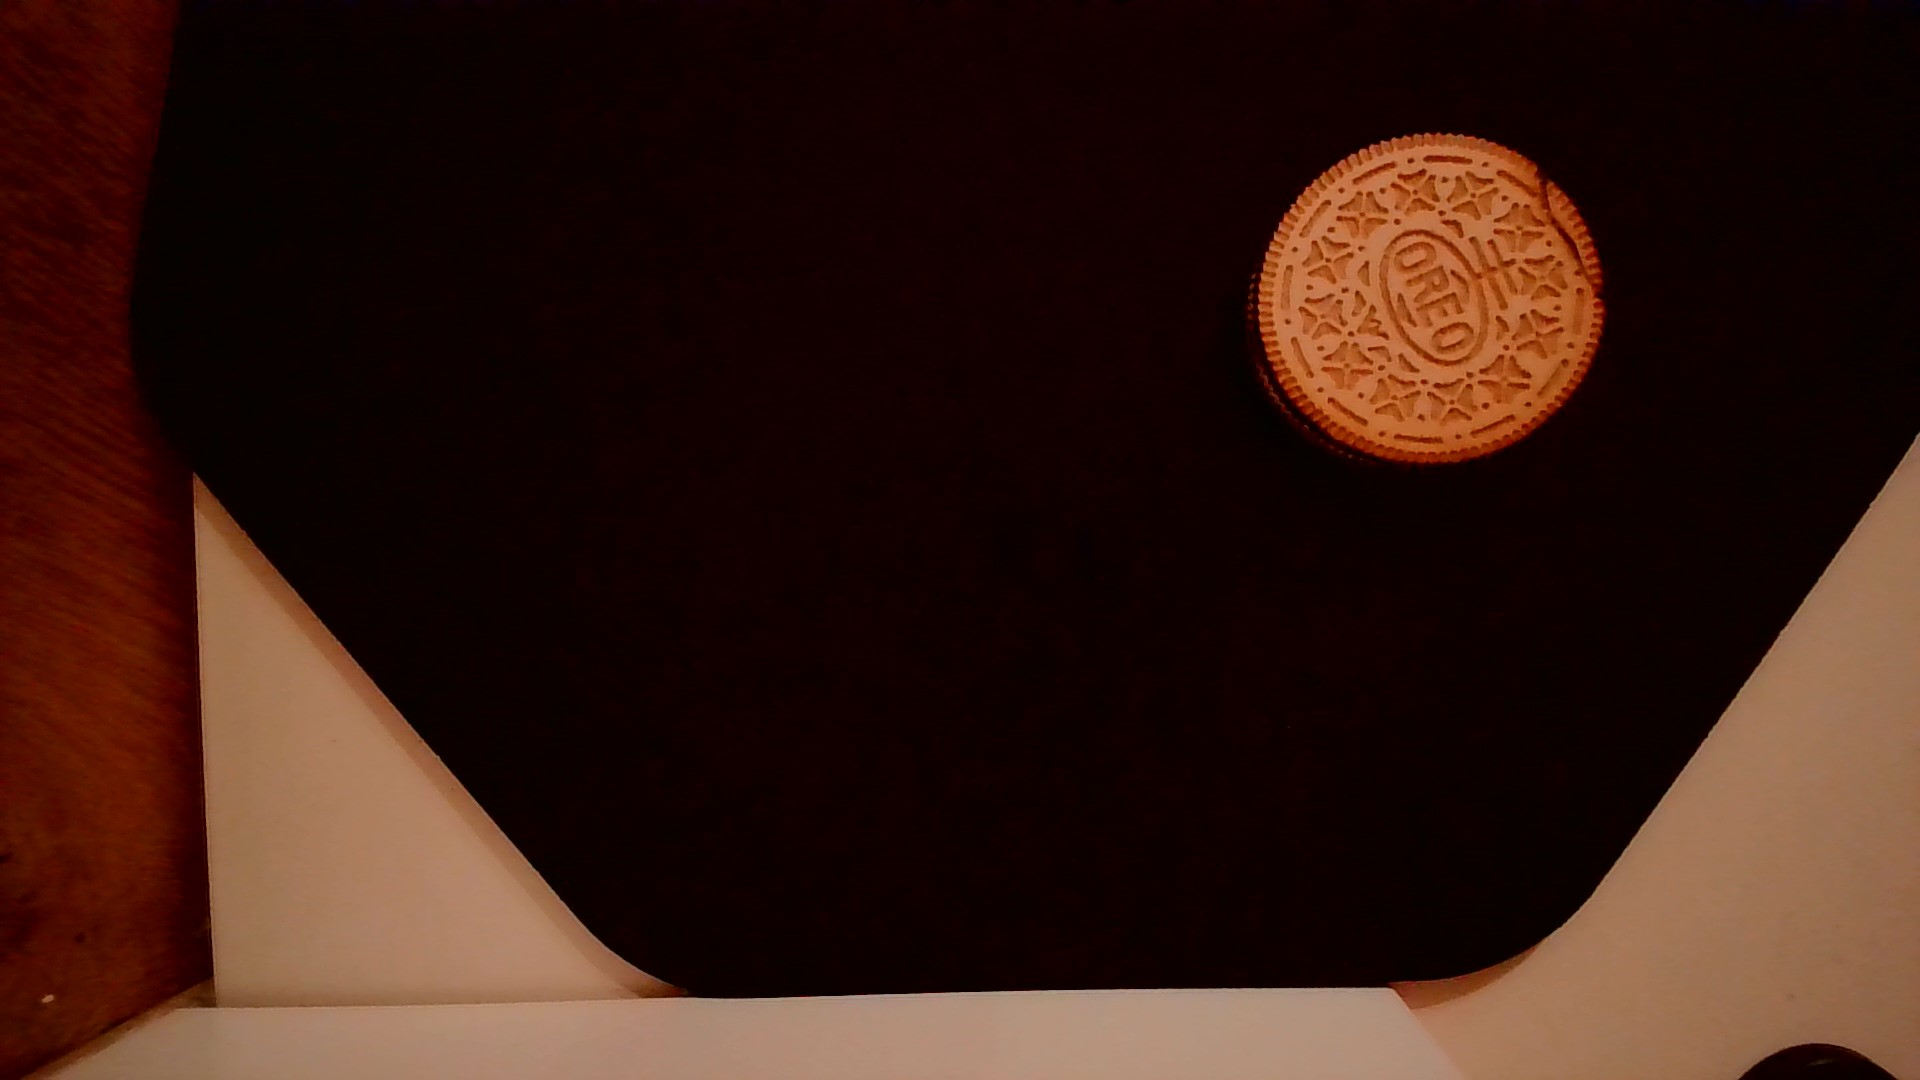Fissure: (1516, 164, 1621, 298)
Oréo: (1234, 123, 1613, 475)
